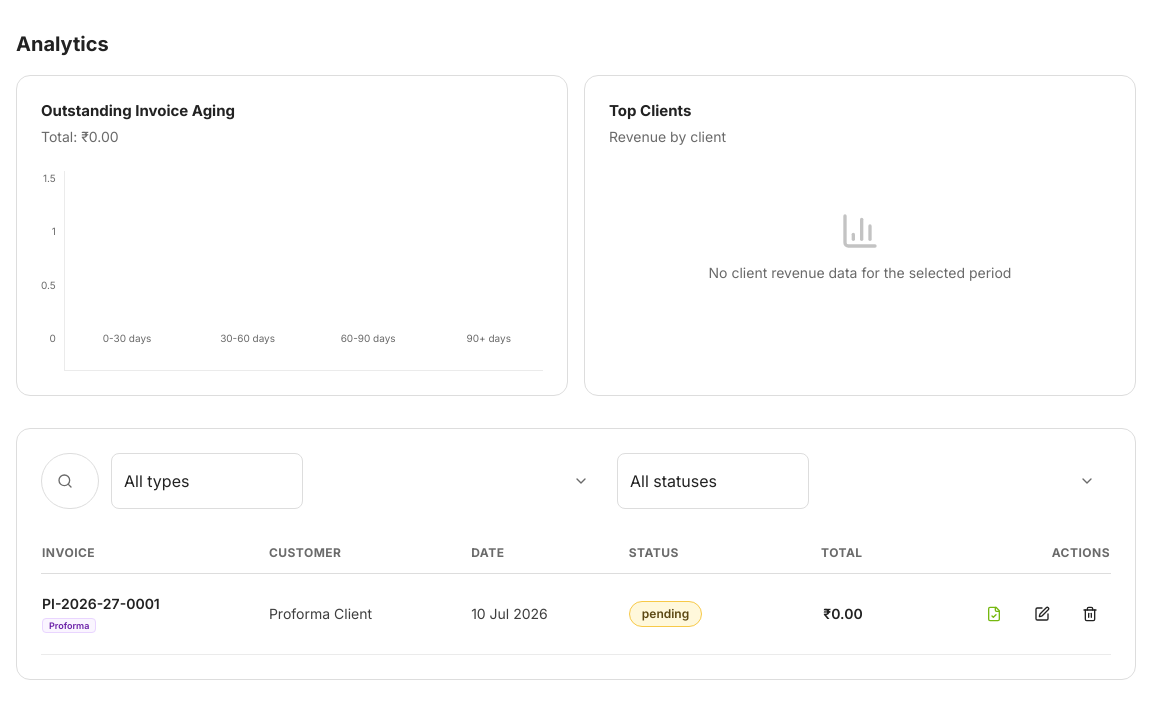
Test case: DashboardPage › converts a proforma to a tax invoice in place
This screenshot has width=1152, height=720.
(page scrolled)
Step 1. Click the button named "Convert to Tax Invoice" → point(994, 614), box [974,590,1014,638]
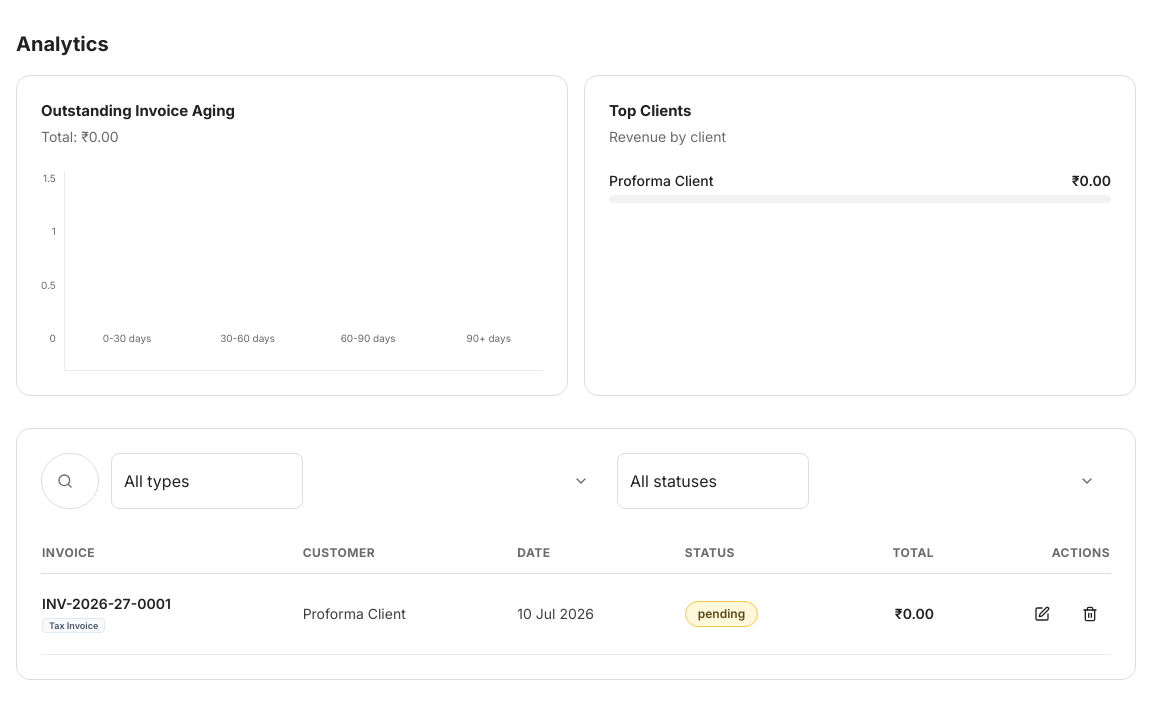
Expected: the text "PI-2026-27-0001" reads "INV-2026-27-0001", [42,595,171,612]
